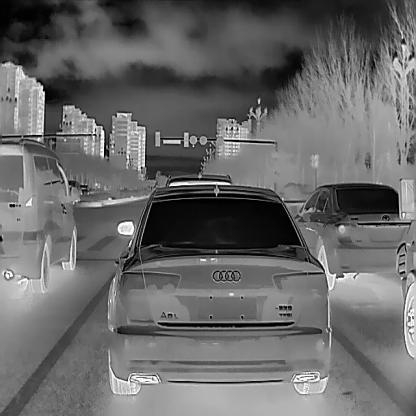car: (105, 179, 331, 397), (292, 180, 411, 291), (0, 137, 80, 294), (79, 182, 90, 194)
light: (181, 129, 191, 149), (153, 131, 163, 148)
sign: (199, 133, 208, 149), (188, 134, 198, 147)
